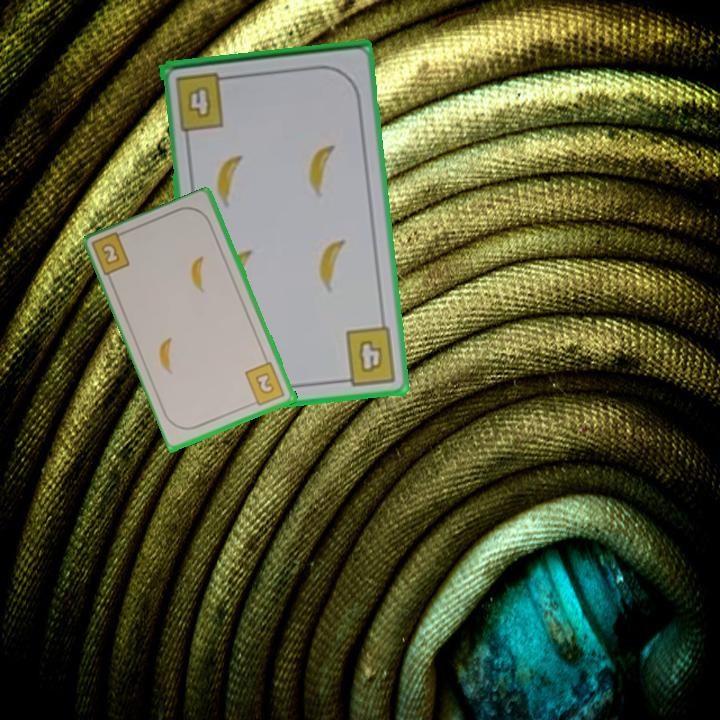2b: (242, 359, 288, 409), (91, 228, 133, 280)
4b: (335, 323, 400, 388), (172, 68, 235, 133)
